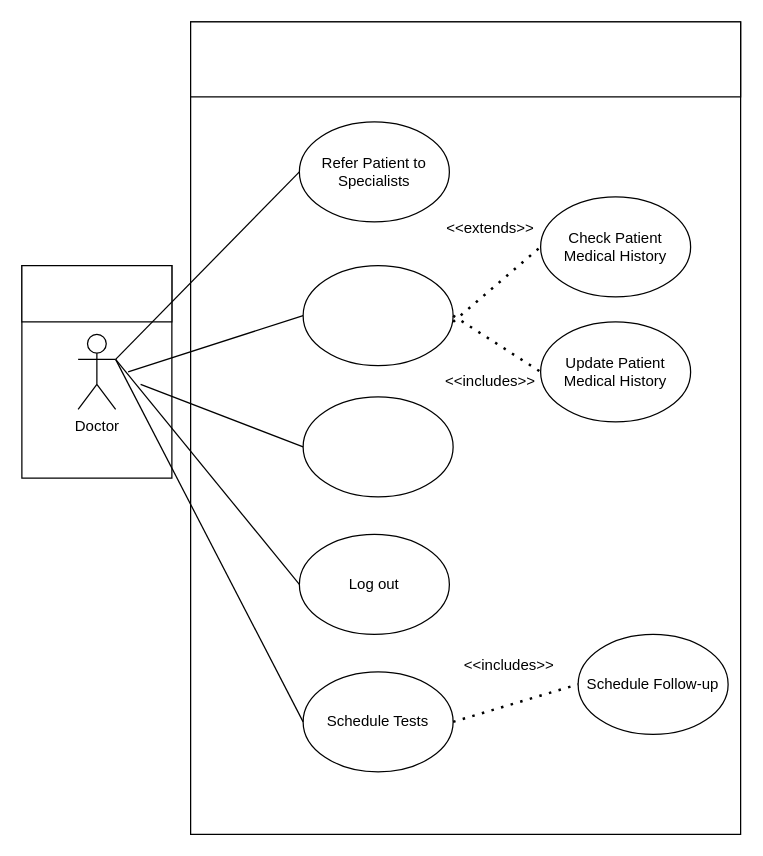
Image size: 763x856. Some labels were removed from this diagram. The centre of each missing label's shape, as x and y in pixels:
"Doctor Use Case Diagram" goes at (465,59).
"Log in" goes at (377,446).
"Prescribe Medication" goes at (377,315).
"Primary Actor" goes at (96,293).
